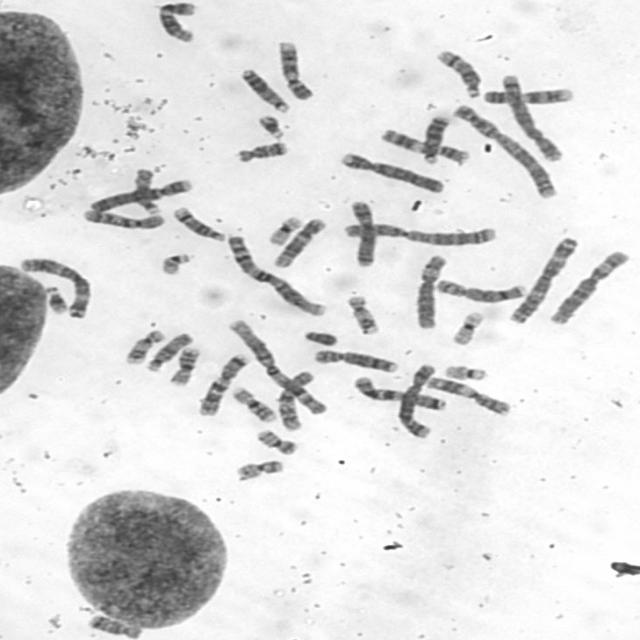A1: (224, 316, 329, 417), (225, 232, 328, 317)
A2: (450, 103, 560, 201), (337, 219, 500, 247)
A3: (505, 233, 581, 324), (16, 254, 94, 320)
B4: (336, 150, 446, 195), (86, 177, 194, 214)
B5: (498, 70, 564, 163), (395, 362, 438, 439)
C10: (275, 368, 317, 432), (79, 207, 167, 231)
C11: (423, 374, 513, 418), (376, 126, 469, 165)
C12: (270, 214, 329, 268), (154, 0, 200, 44)
C6: (546, 247, 630, 326), (412, 252, 449, 331)
C7: (350, 373, 448, 412), (194, 351, 249, 417)
C8: (432, 276, 527, 304), (310, 346, 402, 374)
C9: (274, 38, 314, 102), (479, 84, 575, 106)
D13: (238, 65, 291, 114), (418, 112, 451, 166)
D14: (433, 47, 483, 100), (169, 203, 228, 243)
D15: (143, 331, 194, 372), (131, 165, 161, 216)
E16: (228, 384, 278, 424), (165, 345, 202, 386)
E17: (122, 327, 165, 365), (344, 293, 380, 336)
E18: (232, 139, 290, 164), (87, 614, 145, 639)
F19: (447, 309, 486, 346), (264, 213, 305, 247)
F20: (254, 426, 299, 456), (232, 457, 285, 482)
G21: (254, 112, 288, 140), (42, 284, 70, 316)
G22: (156, 249, 198, 277), (441, 362, 489, 382)
X: (345, 198, 378, 268)
Y: (301, 328, 339, 347)
